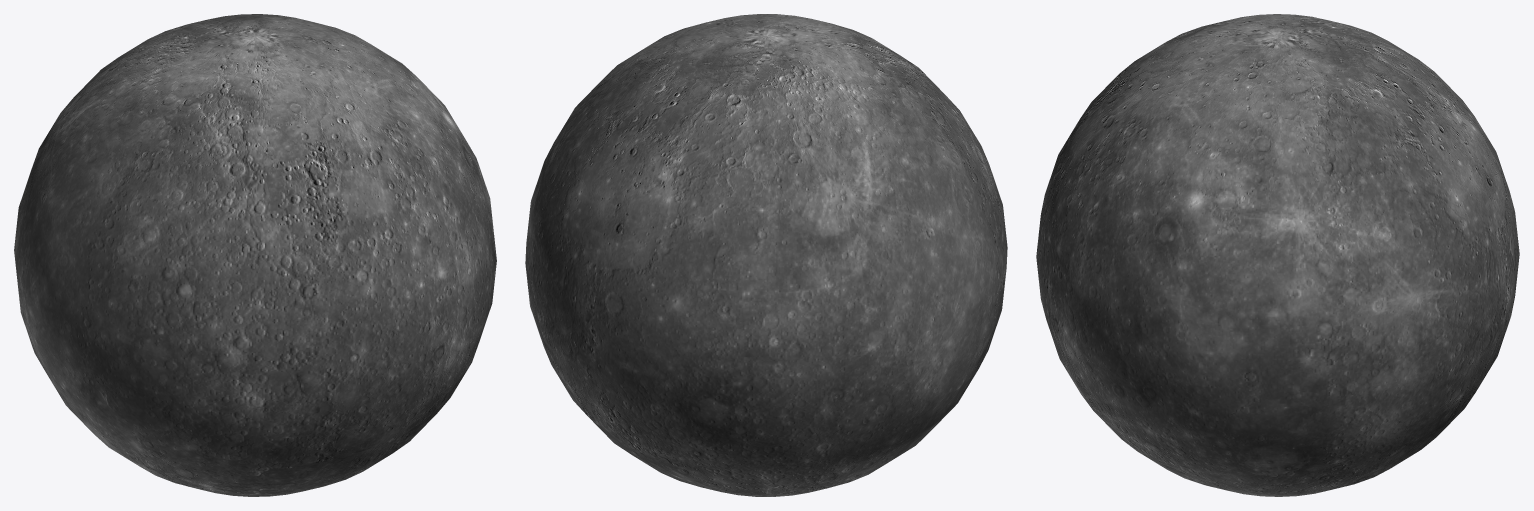
File: shuixing.obj
The picture shows the model from 3 angles, left to right: view 1: azimuth 30°, elevation 25°; view 2: azimuth 150°, elevation 25°; view 3: azimuth 270°, elevation 25°; orthographic projection.
Parts seen in each view (by area): view 1: Sphere001; view 2: Sphere001; view 3: Sphere001.
Part boxes in pixels (x1,y1,x2,y2): Sphere001: (14, 14, 496, 496); Sphere001: (525, 14, 1007, 496); Sphere001: (1036, 14, 1519, 496).
Bounding box in the file's own units: 78.32 × 78.33 × 78.32.
1 material, 1 textured.
